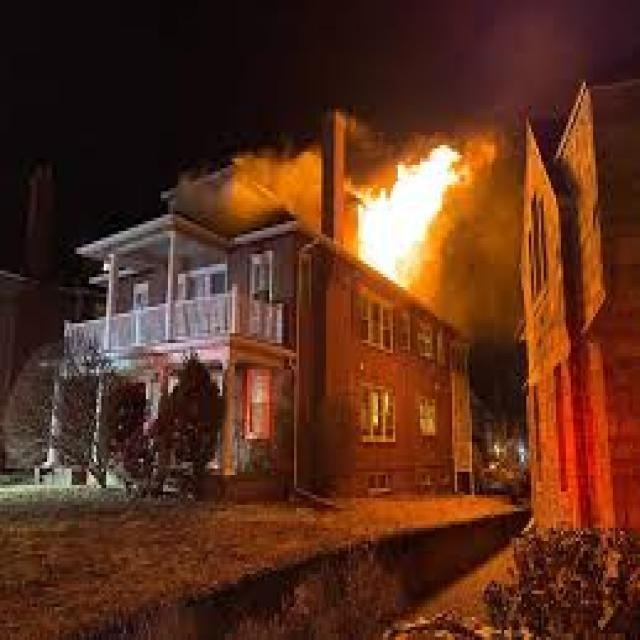Fire: (366, 169, 459, 283)
